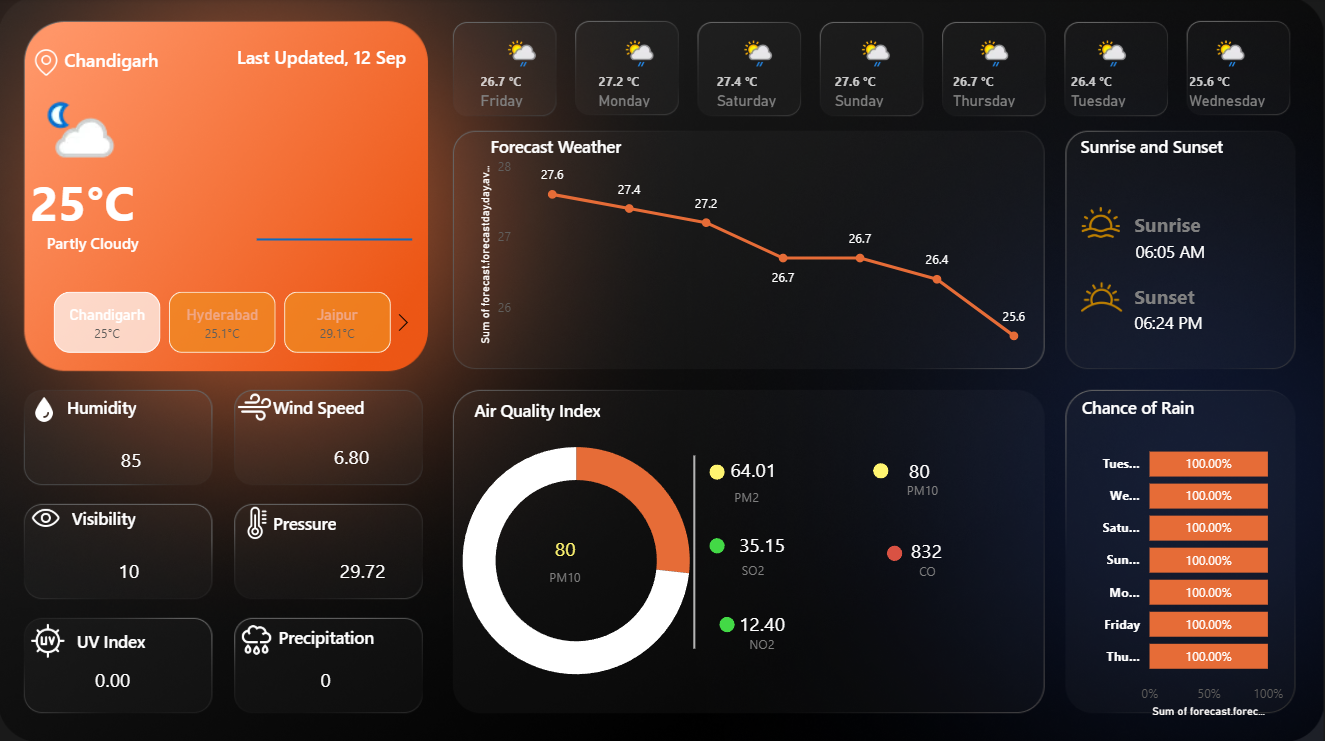

Layout of this report page (visuals, bound fields, positions):
{"tool":"powerbi","page":{"name":"Page 1","canvas":[1280,720],"ordinal":0},"visuals":[{"type":"advancedSlicerVisual","fields":{"Values":["Locations.location.name"]},"box":[28.8,278.6,377.4,70],"z":0},{"type":"shape","box":[31.2,157.5,203.8,77.5],"z":1000},{"type":"shape","box":[46.7,216.8,203.1,37],"z":2000},{"type":"shape","box":[64.5,48,134.5,30.2],"z":3000},{"type":"image","box":[28.8,39.8,35.7,45.3],"z":4000},{"type":"shape","box":[229.2,41.2,164.7,30.2],"z":5000},{"type":"cardVisual","fields":{"Data":["Min(Current.current.condition.icon)"]},"box":[17.8,78.2,113.9,97.4],"z":6000},{"type":"image","box":[22,481.6,49.4,41.2],"z":7000},{"type":"shape","box":[71.4,485.8,72.7,31.6],"z":8000},{"type":"image","box":[16.5,380.1,54.9,34.3],"z":9000},{"type":"shape","box":[65.9,380.1,133.1,30.2],"z":10000},{"type":"image","box":[17.8,598.3,60.4,43.9],"z":11000},{"type":"shape","box":[75.5,605.1,164.7,30.2],"z":12000},{"type":"image","box":[225,485.8,49.4,41.2],"z":13000},{"type":"shape","box":[264.8,492.6,164.7,30.2],"z":14000},{"type":"image","box":[220.9,373.2,53.5,43.9],"z":15000},{"type":"shape","box":[264.8,380.1,164.7,30.2],"z":16000},{"type":"image","box":[214.1,596.9,72.7,45.3],"z":17000},{"type":"shape","box":[264.8,605.1,97.4,30.2],"z":18000},{"type":"card","fields":{"Values":["Sum(Current.current.humidity)"]},"box":[102.9,410.3,45.3,35.7],"z":19000},{"type":"card","fields":{"Values":["Sum(Current.current.wind_kph)"]},"box":[301.9,414.4,60.4,35.7],"z":20000},{"type":"card","fields":{"Values":["Sum(Current.current.precip_in)"]},"box":[282.7,642.2,68.6,35.7],"z":21000},{"type":"card","fields":{"Values":["Sum(Current.current.uv)"]},"box":[71.4,642.2,79.6,35.7],"z":22000},{"type":"card","fields":{"Values":["Sum(Current.current.pressure_in)"]},"box":[311.9,536.9,79.6,35.7],"z":23000},{"type":"card","fields":{"Values":["Sum(Current.current.vis_km)"]},"box":[86.4,536.5,79.6,35.7],"z":24000},{"type":"advancedSlicerVisual","fields":{"Values":["Forcast_Day.Day_Name"]},"box":[447.5,30,805,81.2],"z":25000},{"type":"shape","box":[1045,127.5,165,30],"z":26000},{"type":"shape","box":[1096.2,185,156.2,68.8],"z":27000},{"type":"shape","box":[1096.2,253.8,156.2,68.8],"z":28000},{"type":"shape","box":[1096.2,278.8,156.2,68.8],"z":29000},{"type":"shape","box":[1097.5,210,156.2,68.8],"z":30000},{"type":"image","box":[1033.8,256.2,62.5,66.2],"z":31000},{"type":"image","box":[1041.2,190,46.2,55],"z":32000},{"type":"shape","box":[460,385,215,25],"z":33000},{"type":"shape","box":[876.8,439.1,155.1,72.7],"z":34000},{"type":"shape","box":[889.2,518.7,156.4,68.6],"z":35000},{"type":"card","fields":{"Values":["Sum(Current.current.air_quality.co)"]},"box":[865.9,517.3,60.4,35.7],"z":36000},{"type":"card","fields":{"Values":["Sum(Current.current.air_quality.pm2_5)"]},"box":[699.8,440.5,59,34.3],"z":37000},{"type":"card","fields":{"Values":["Sum(Current.current.air_quality.so2)"]},"box":[708.1,511.8,59,35.7],"z":38000},{"type":"card","fields":{"Values":["Sum(Current.current.air_quality.no2)"]},"box":[708.1,587.3,59,35.7],"z":39000},{"type":"shape","box":[710.8,444.6,155.1,71.4],"z":40000},{"type":"shape","box":[717.7,516,155.1,72.7],"z":41000},{"type":"shape","box":[724.5,587.3,155.1,72.7],"z":42000},{"type":"card","fields":{"Values":["Sum(Current.current.air_quality.pm10)"]},"box":[865.9,414.4,46.7,87.8],"z":43000},{"type":"lineChart","fields":{"Category":["Forcast_Day.Day_Name"],"Y":["Sum(Forcast_Day.forecast.forecastday.day.avgtemp_c)"]},"box":[459.7,148.2,555.7,190.7],"z":44000},{"type":"hundredPercentStackedBarChart","fields":{"Y":["Sum(Forcast_Day.forecast.forecastday.day.daily_chance_of_rain)"],"Category":["Forcast_Day.Day_Name"]},"box":[1049.7,413,196.2,286.8],"z":45000},{"type":"shape","box":[1045.6,380.1,164.7,30.2],"z":46000},{"type":"shape","box":[474.8,127.6,140,30.2],"z":47000},{"type":"shape","box":[843.9,448.7,15.1,15.1],"z":48000},{"type":"shape","box":[857.6,528.3,15.1,15.1],"z":49000},{"type":"shape","box":[695.7,596.9,15.1,15.1],"z":50000},{"type":"shape","box":[686.1,521.4,15.1,15.1],"z":51000},{"type":"shape","box":[686.1,450.1,15.1,15.1],"z":52000},{"type":"shape","box":[250,158,150,150],"z":53000},{"type":"shape","box":[576.3,441.9,190.7,186.6],"z":54000},{"type":"shape","box":[532.4,522.8,160.5,72.7],"z":55000},{"type":"card","fields":{"Values":["Sum(Current.current.air_quality.pm10)"]},"box":[517.3,450.1,60.4,167.4],"z":56000},{"type":"donutChart","fields":{"Y":["Sum(Current.current.air_quality.pm10)","_Measures.Left_Value_PM10"]},"box":[415.8,400.7,284,285.4],"z":57000}]}

Visuals, with their boxes in screenshot pixels (x1, y1, x2, y2), scaled from the page's 1280x720 canvas onto the 1325x741 screenshot:
advancedSlicerVisual - Locations.location.name: (left=30, top=287, right=420, bottom=359)
shape: (left=32, top=162, right=243, bottom=242)
shape: (left=48, top=223, right=259, bottom=261)
shape: (left=67, top=49, right=206, bottom=80)
image: (left=30, top=41, right=67, bottom=88)
shape: (left=237, top=42, right=408, bottom=73)
cardVisual - Min(Current.current.condition.icon): (left=18, top=80, right=136, bottom=181)
image: (left=23, top=496, right=74, bottom=538)
shape: (left=74, top=500, right=149, bottom=532)
image: (left=17, top=391, right=74, bottom=426)
shape: (left=68, top=391, right=206, bottom=422)
image: (left=18, top=616, right=81, bottom=661)
shape: (left=78, top=623, right=249, bottom=654)
image: (left=233, top=500, right=284, bottom=542)
shape: (left=274, top=507, right=445, bottom=538)
image: (left=229, top=384, right=284, bottom=429)
shape: (left=274, top=391, right=445, bottom=422)
image: (left=222, top=614, right=297, bottom=661)
shape: (left=274, top=623, right=375, bottom=654)
card - Sum(Current.current.humidity): (left=107, top=422, right=153, bottom=459)
card - Sum(Current.current.wind_kph): (left=313, top=426, right=375, bottom=463)
card - Sum(Current.current.precip_in): (left=293, top=661, right=364, bottom=698)
card - Sum(Current.current.uv): (left=74, top=661, right=156, bottom=698)
card - Sum(Current.current.pressure_in): (left=323, top=553, right=405, bottom=589)
card - Sum(Current.current.vis_km): (left=89, top=552, right=172, bottom=589)
advancedSlicerVisual - Forcast_Day.Day_Name: (left=463, top=31, right=1297, bottom=114)
shape: (left=1082, top=131, right=1253, bottom=162)
shape: (left=1135, top=190, right=1296, bottom=261)
shape: (left=1135, top=261, right=1296, bottom=332)
shape: (left=1135, top=287, right=1296, bottom=358)
shape: (left=1136, top=216, right=1298, bottom=287)
image: (left=1070, top=264, right=1135, bottom=332)
image: (left=1078, top=196, right=1126, bottom=252)
shape: (left=476, top=396, right=699, bottom=422)
shape: (left=908, top=452, right=1068, bottom=527)
shape: (left=920, top=534, right=1082, bottom=604)
card - Sum(Current.current.air_quality.co): (left=896, top=532, right=959, bottom=569)
card - Sum(Current.current.air_quality.pm2_5): (left=724, top=453, right=785, bottom=489)
card - Sum(Current.current.air_quality.so2): (left=733, top=527, right=794, bottom=563)
card - Sum(Current.current.air_quality.no2): (left=733, top=604, right=794, bottom=641)
shape: (left=736, top=458, right=896, bottom=531)
shape: (left=743, top=531, right=903, bottom=606)
shape: (left=750, top=604, right=911, bottom=679)
card - Sum(Current.current.air_quality.pm10): (left=896, top=426, right=945, bottom=517)
lineChart - Forcast_Day.Day_Name x Sum(Forcast_Day.forecast.forecastday.day.avgtemp_c): (left=476, top=153, right=1051, bottom=349)
hundredPercentStackedBarChart - Sum(Forcast_Day.forecast.forecastday.day.daily_chance_of_rain) x Forcast_Day.Day_Name: (left=1087, top=425, right=1290, bottom=720)
shape: (left=1082, top=391, right=1253, bottom=422)
shape: (left=491, top=131, right=636, bottom=162)
shape: (left=874, top=462, right=889, bottom=477)
shape: (left=888, top=544, right=903, bottom=559)
shape: (left=720, top=614, right=736, bottom=630)
shape: (left=710, top=537, right=726, bottom=552)
shape: (left=710, top=463, right=726, bottom=479)
shape: (left=259, top=163, right=414, bottom=317)
shape: (left=597, top=455, right=794, bottom=647)
shape: (left=551, top=538, right=717, bottom=613)
card - Sum(Current.current.air_quality.pm10): (left=535, top=463, right=598, bottom=636)
donutChart - Sum(Current.current.air_quality.pm10) x _Measures.Left_Value_PM10: (left=430, top=412, right=724, bottom=706)
